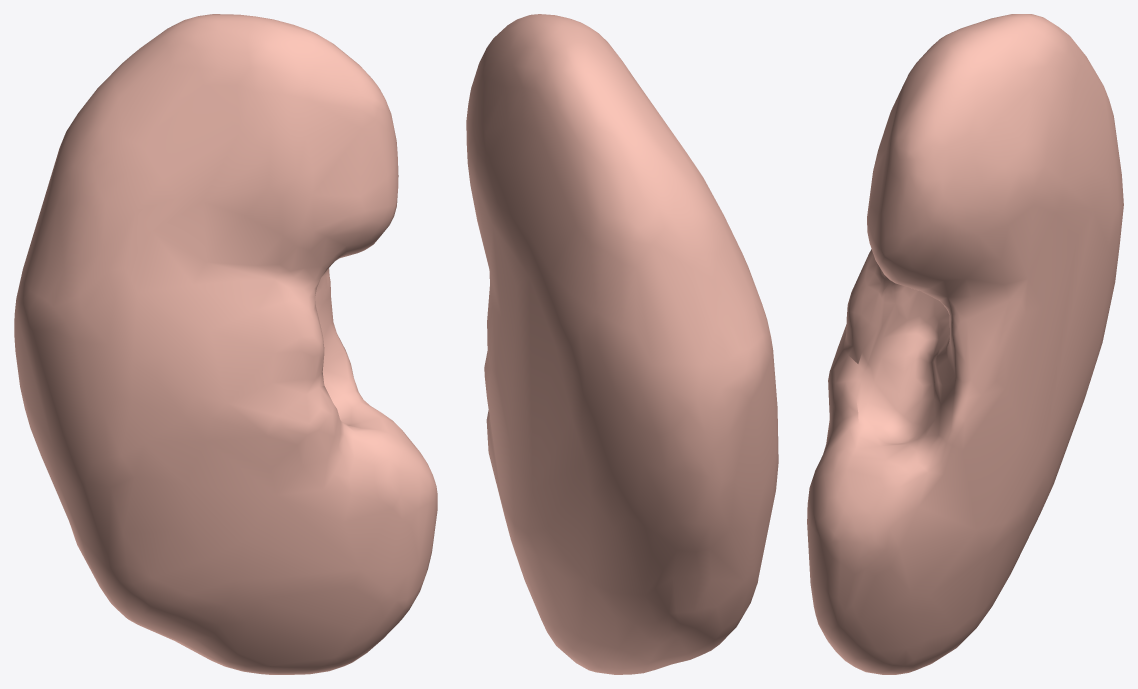
File: right-kidney.glb
The picture shows the model from 3 angles, left to right: view 1: azimuth 30°, elevation 25°; view 2: azimuth 150°, elevation 25°; view 3: azimuth 270°, elevation 25°; orthographic projection. The views are drawn at different scales.
Parts seen in each view (by area): view 1: FJ3147; view 2: FJ3147; view 3: FJ3147.
Part boxes in pixels (x1,y1,x2,y2): FJ3147: (14, 14, 437, 674); FJ3147: (466, 14, 778, 674); FJ3147: (807, 14, 1123, 674).
Bounding box in the file's own units: 0.1714 × 0.3133 × 0.1415.
